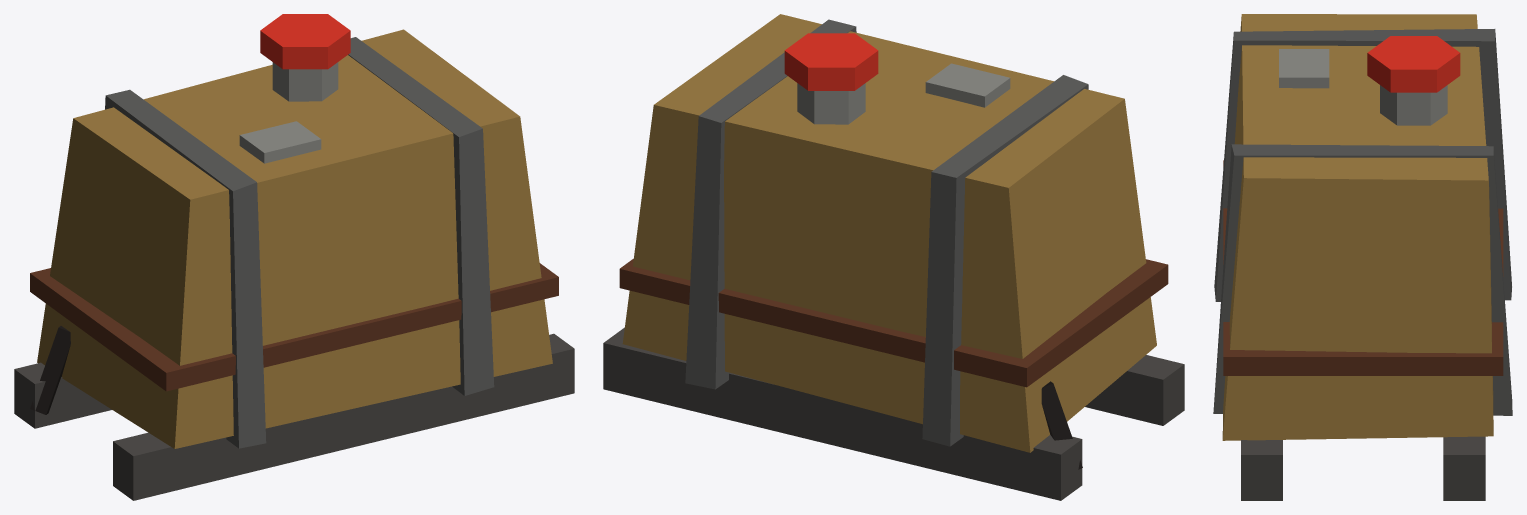
Rendered from fuel_tank_mini.glb.
The picture shows the model from 3 angles, left to right: view 1: azimuth 30°, elevation 25°; view 2: azimuth 150°, elevation 25°; view 3: azimuth 270°, elevation 25°; orthographic projection. The views are drawn at different scales.
Parts seen in each view (by area): view 1: fuel_tank_mini; view 2: fuel_tank_mini; view 3: fuel_tank_mini.
Boxes of the visible parts, bbox=[...] form: fuel_tank_mini: bbox=[14, 14, 574, 500]; fuel_tank_mini: bbox=[603, 14, 1184, 500]; fuel_tank_mini: bbox=[1213, 14, 1512, 500].
Size of the model in its own units: 0.6239 by 0.465 by 0.3548.
